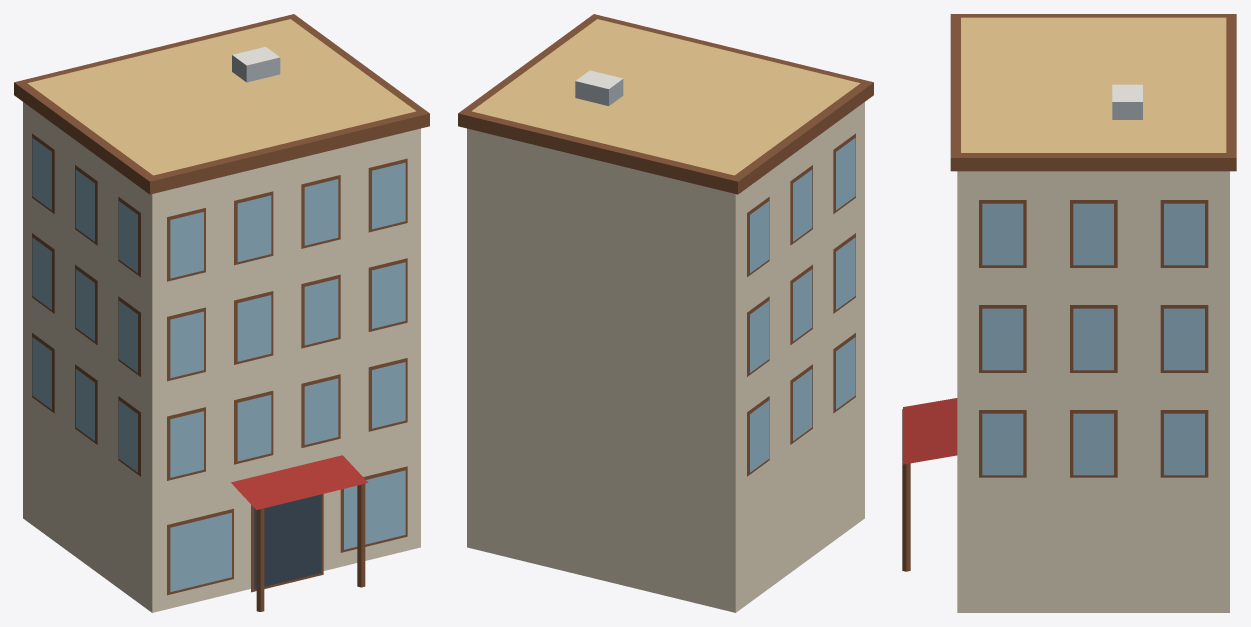
File: B_Hotel.fbx
The picture shows the model from 3 angles, left to right: view 1: azimuth 30°, elevation 25°; view 2: azimuth 150°, elevation 25°; view 3: azimuth 270°, elevation 25°; orthographic projection. The views are drawn at different scales.
Parts seen in each view (by area): view 1: B_Hotel.001; view 2: B_Hotel.001; view 3: B_Hotel.001.
Part boxes in pixels (x1,y1,x2,y2): B_Hotel.001: (14, 14, 429, 612); B_Hotel.001: (458, 14, 873, 612); B_Hotel.001: (902, 14, 1236, 612).
Size of the model in its own units: 5 by 7.77 by 4.91.
